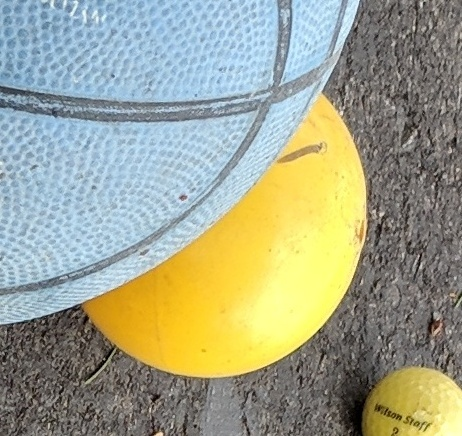ball: (82, 77, 367, 379)
